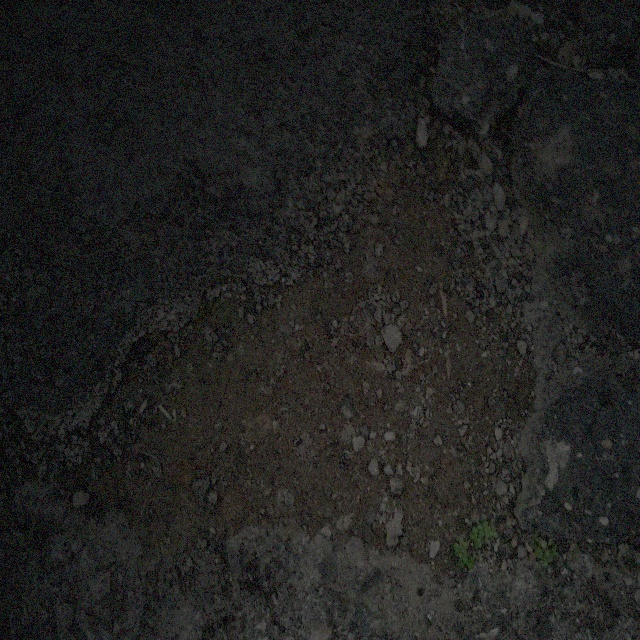pothole: (50, 86, 543, 586)
